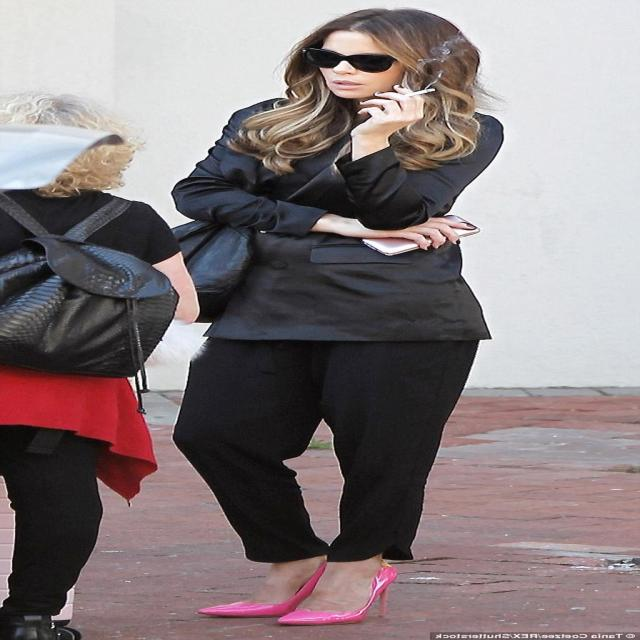smoking: (226, 19, 492, 151)
